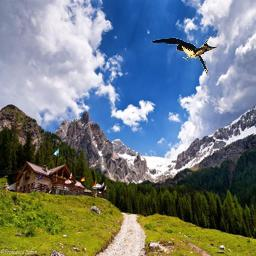Swallow: (150, 34, 230, 76)
